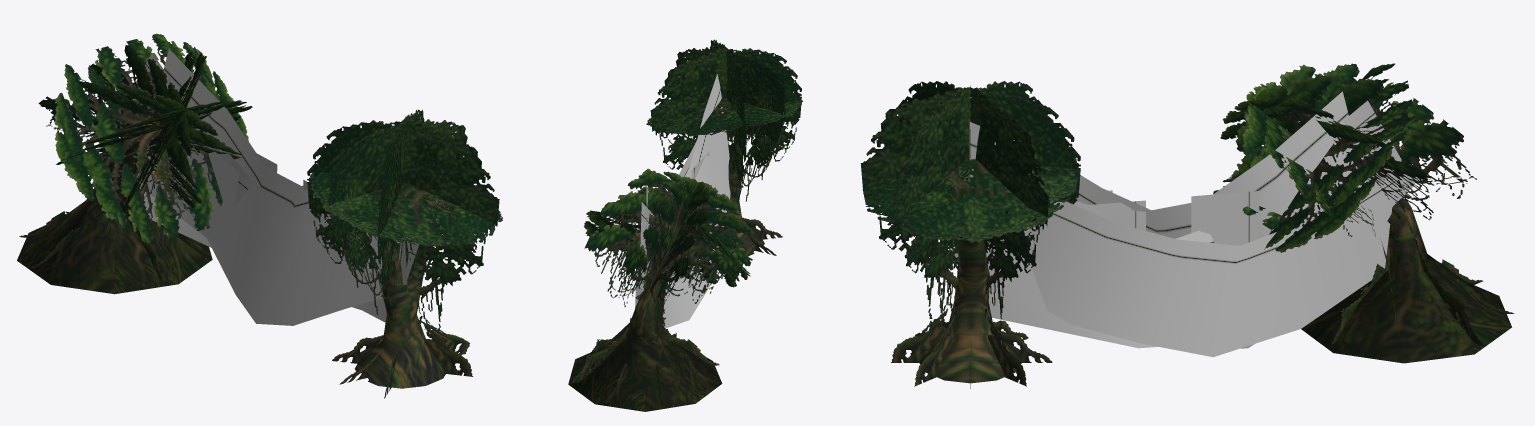
File: pine.obj
The picture shows the model from 3 angles, left to right: view 1: azimuth 30°, elevation 25°; view 2: azimuth 150°, elevation 25°; view 3: azimuth 270°, elevation 25°; orthographic projection. The views are drawn at different scales.
Parts seen in each view (by area): view 1: jungle_tree2.001; view 2: jungle_tree2.001; view 3: jungle_tree2.001.
Boxes of the visible parts, x1=… form: jungle_tree2.001: x1=17, y1=33, x2=502, y2=398; jungle_tree2.001: x1=568, y1=39, x2=802, y2=411; jungle_tree2.001: x1=860, y1=63, x2=1514, y2=388.
Bounding box in the file's own units: 26.27 × 25.02 × 49.98.
Materials: 3 (3 with a texture image).
